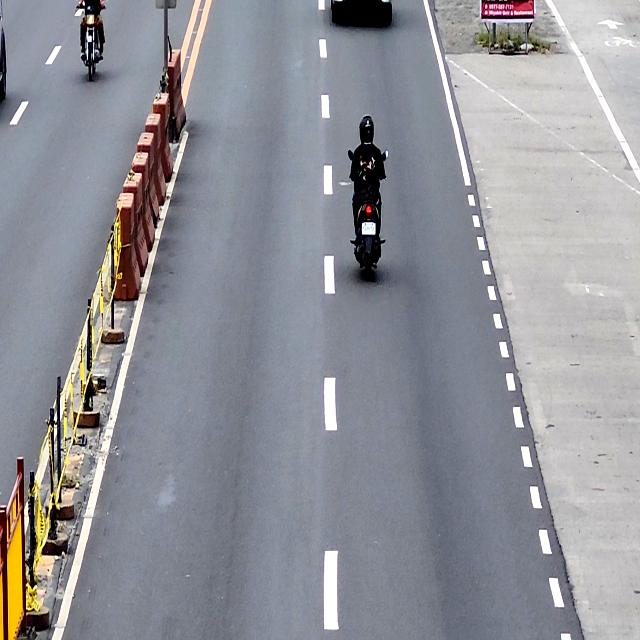License-Plate: (362, 222, 376, 235)
Motorcycle: (347, 144, 388, 282)
